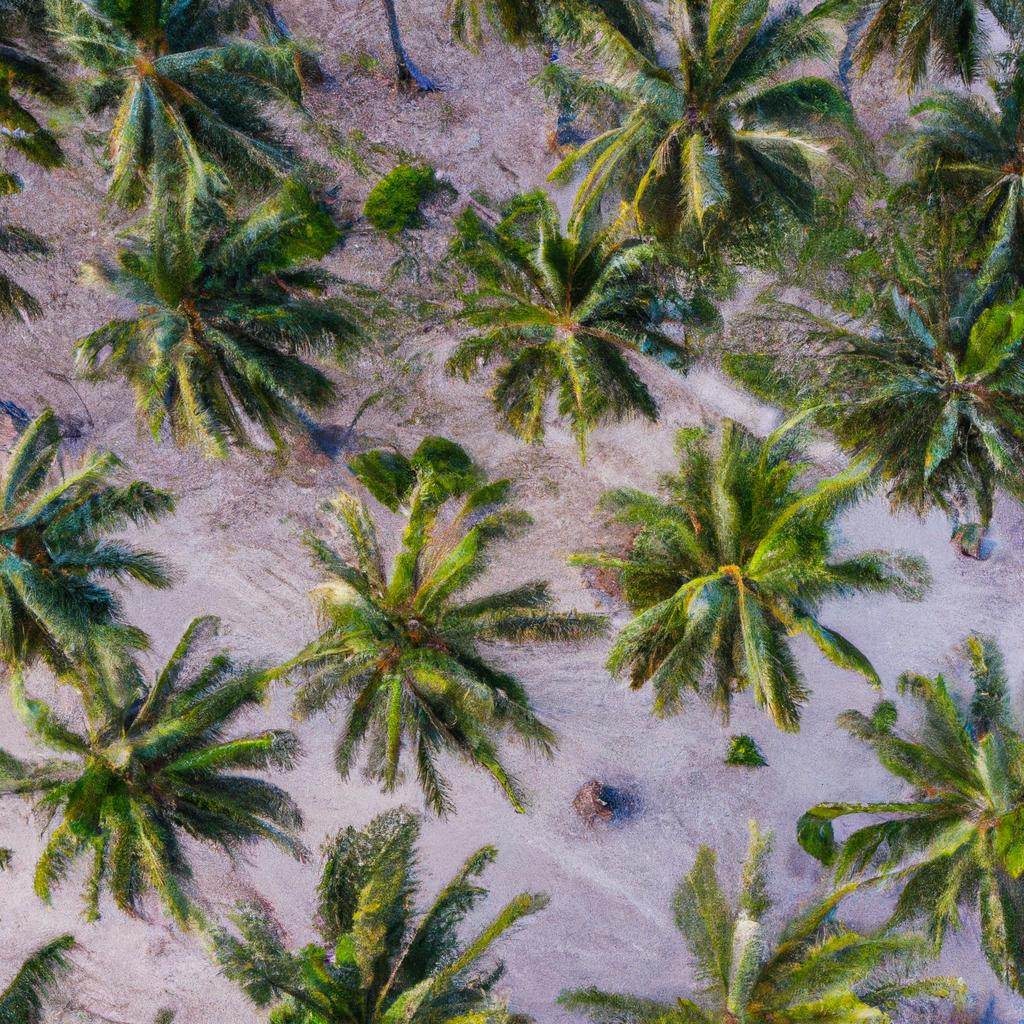coconut_tree: (574, 418, 917, 750), (275, 443, 578, 818), (0, 602, 292, 921), (520, 4, 871, 250), (54, 164, 347, 458), (425, 174, 717, 434)
